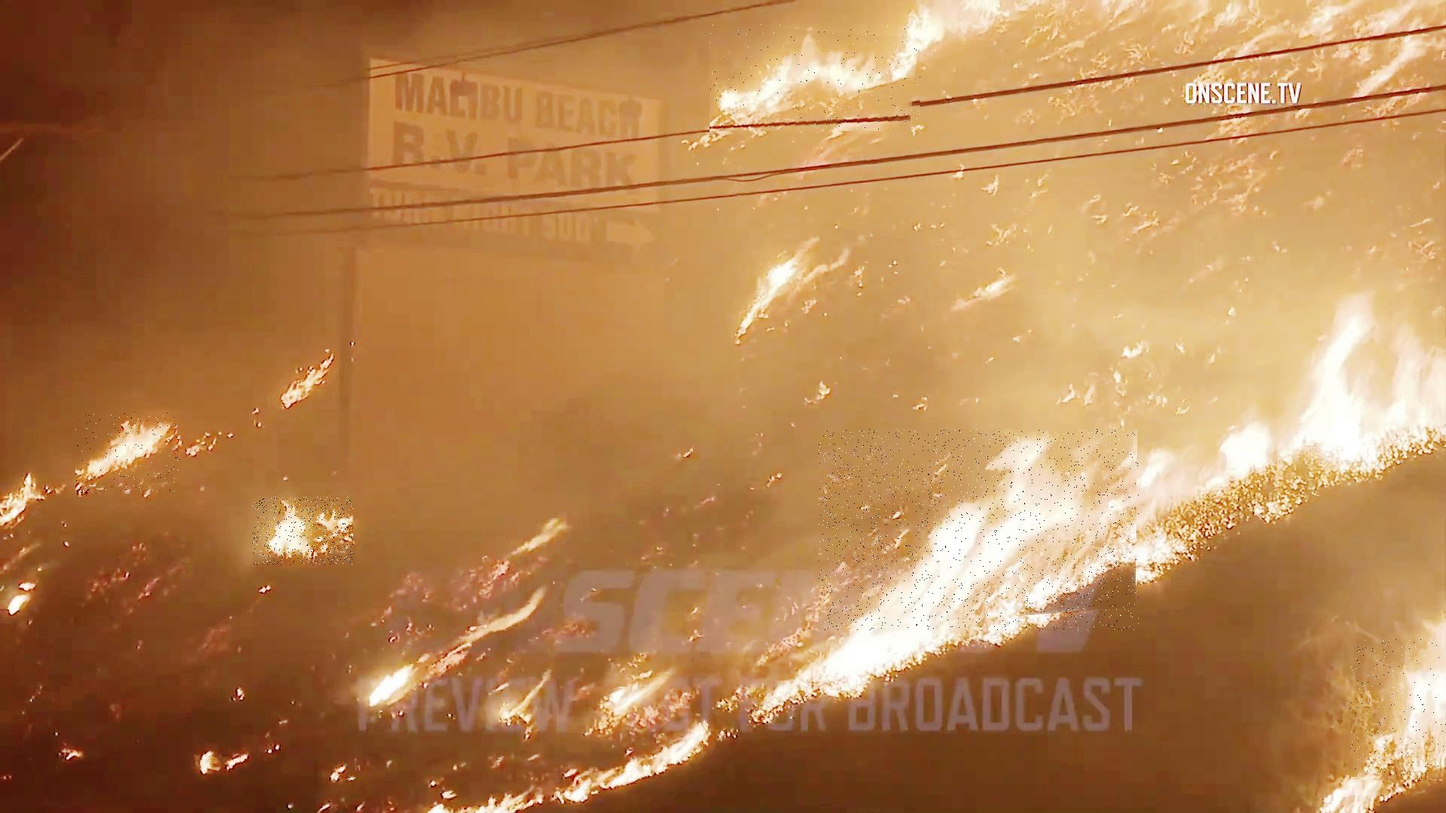fire: (819, 429, 1139, 631), (1278, 294, 1444, 496), (710, 25, 921, 133), (1350, 638, 1446, 780), (76, 411, 180, 494), (253, 498, 353, 566)
